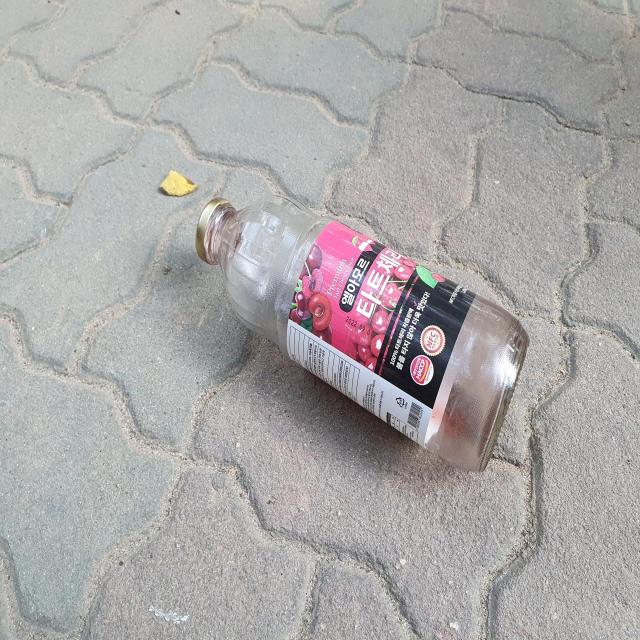glass: (196, 196, 530, 471)
